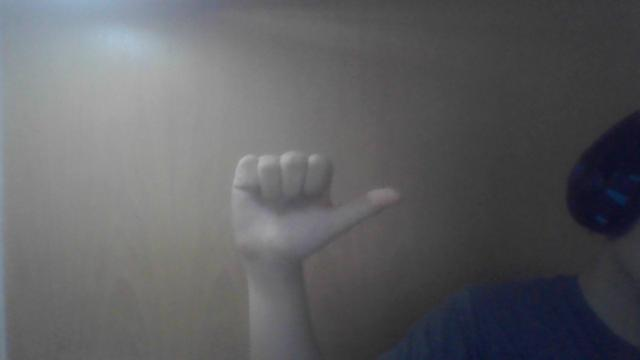left: (218, 142, 408, 258)
